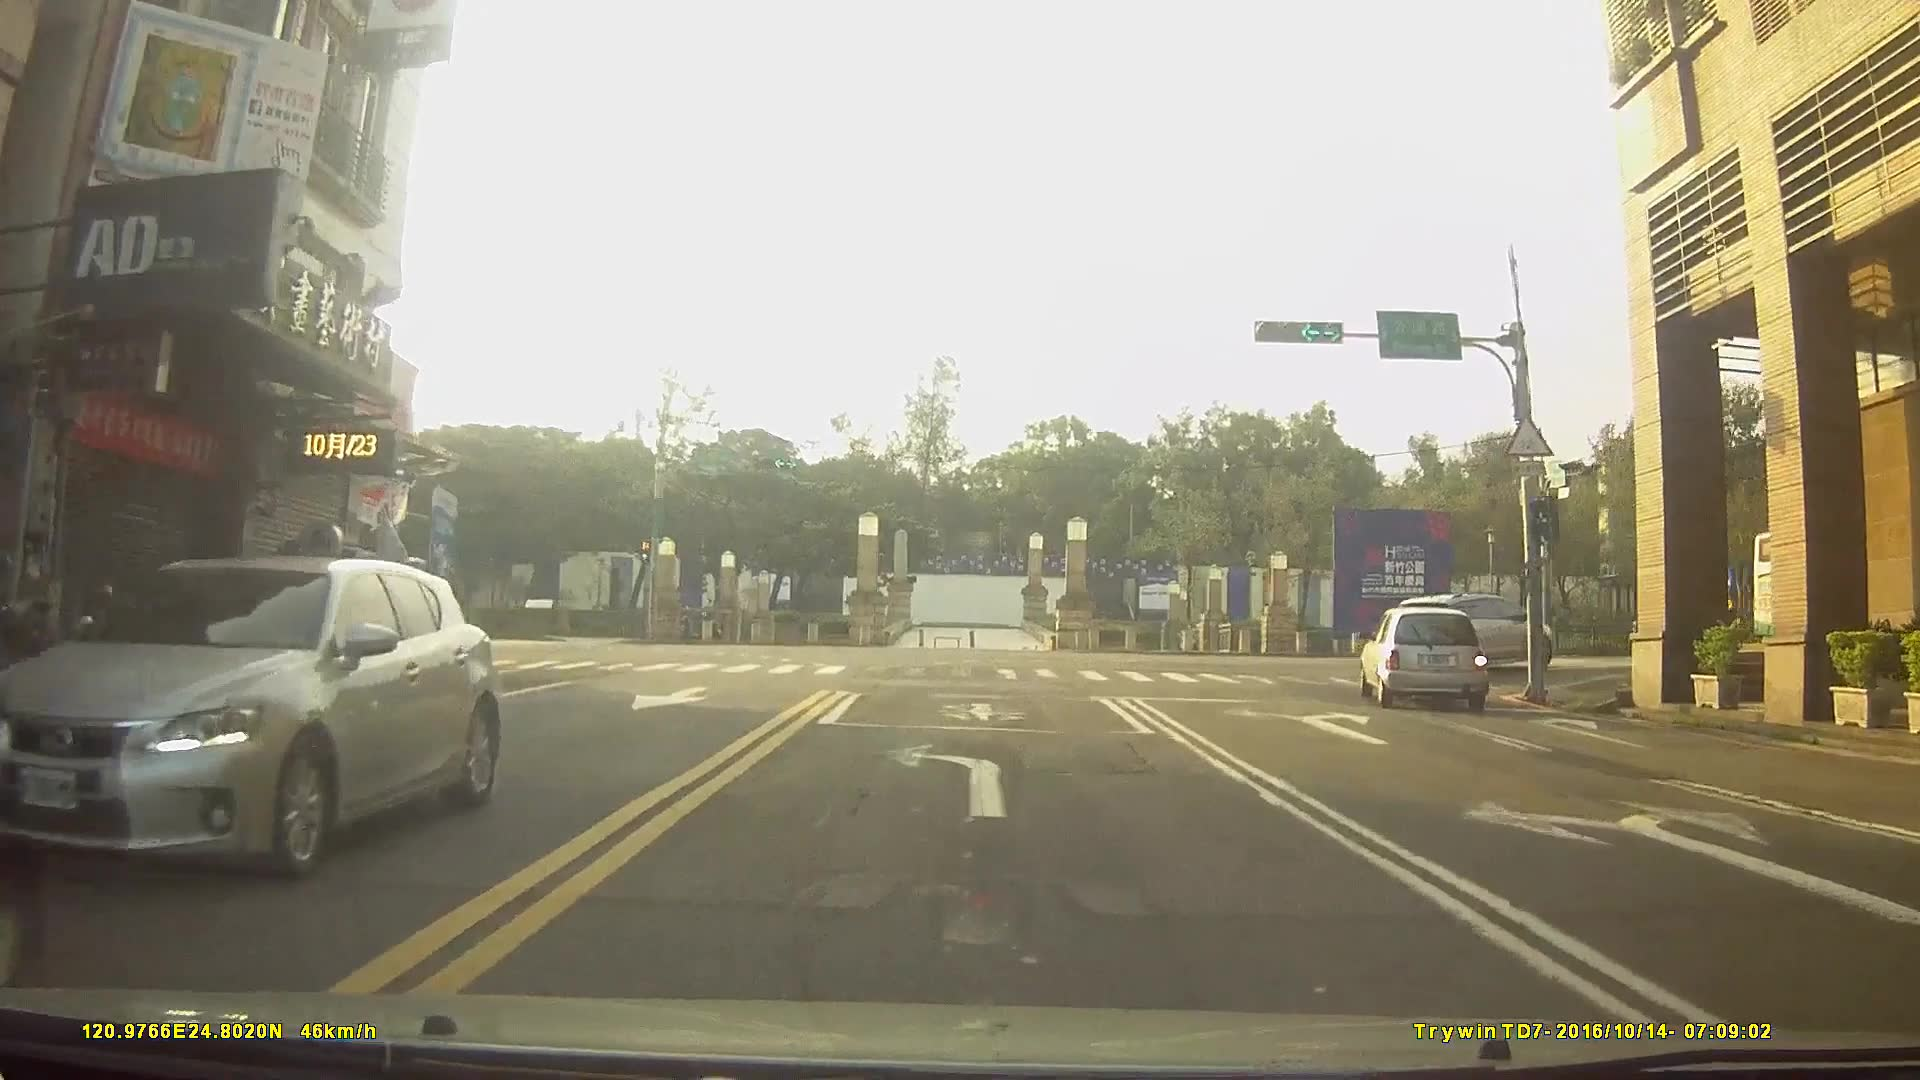vehicle: (0, 549, 502, 886), (1360, 607, 1490, 712), (1389, 593, 1553, 676)
